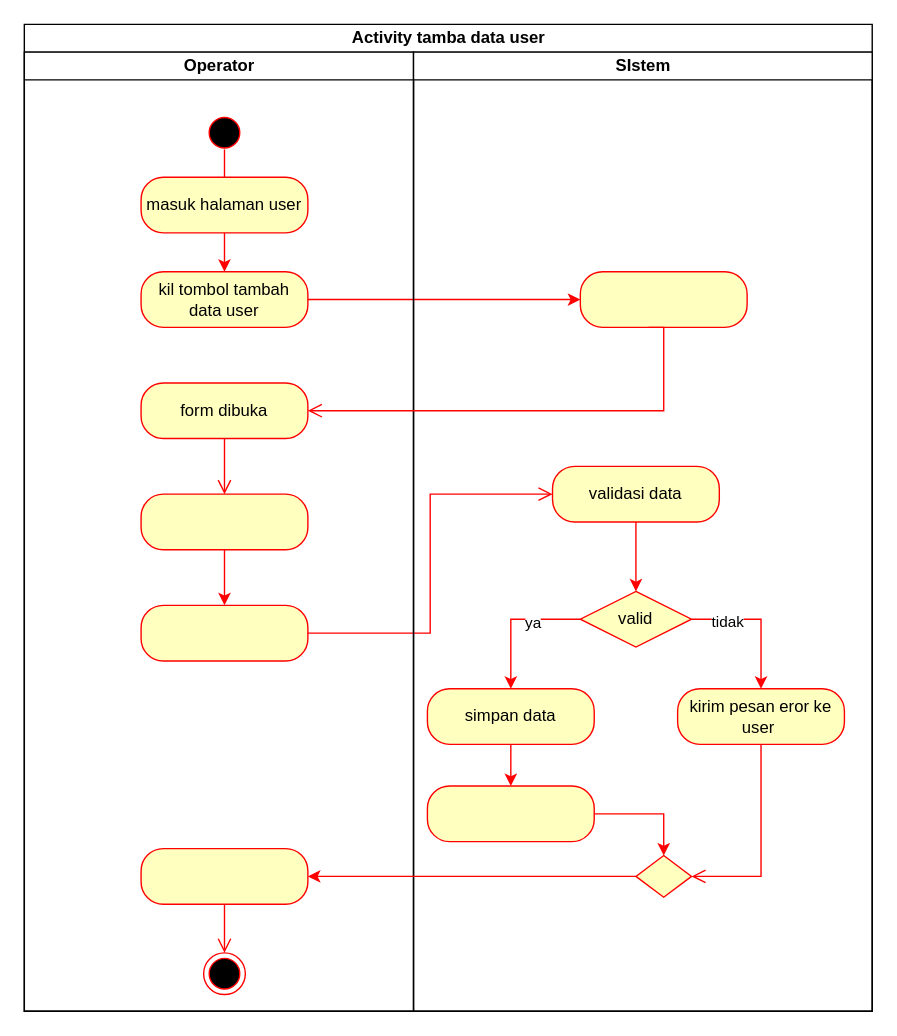
This 897x1036 diagram has some shape labels left out. The shapes that lost their labels are listed below. From the top down, each one's centre as x and y in pixels, then its label:
point (663, 298): kirim form tambah data
point (224, 521): isi form
point (224, 632): klik simpan
point (510, 813): kirim pesan sukses ke user
point (224, 875): tampilkan notifikasi
